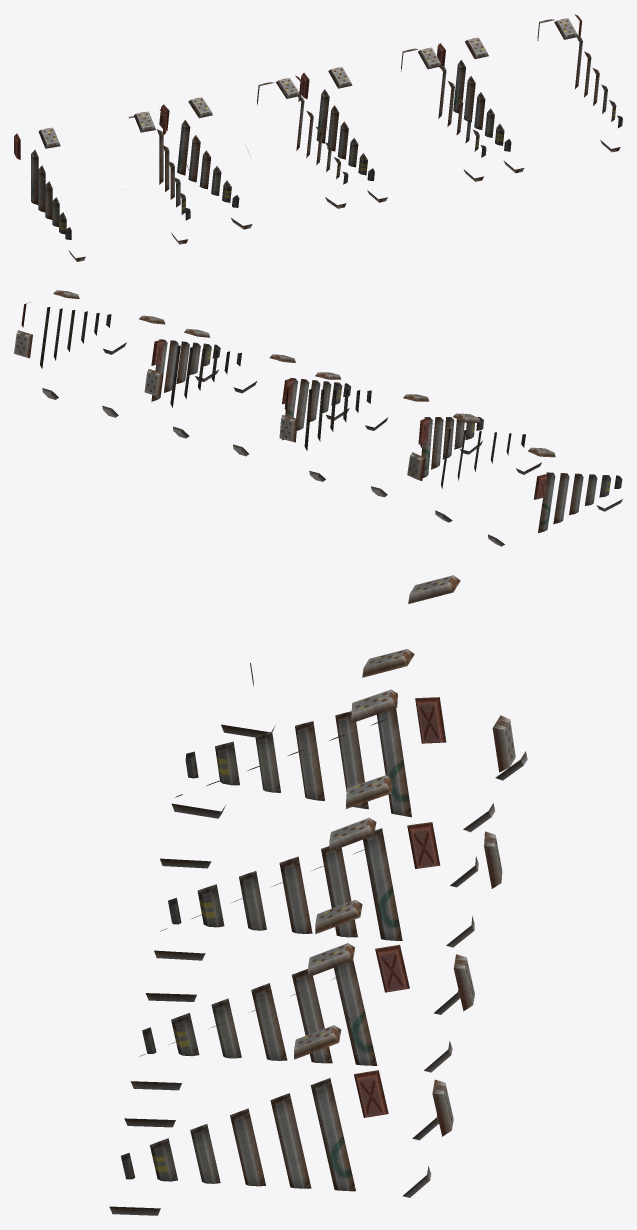
The model's file is prop_static_tan_container_01_11_0.glb.
3 views of the same model, one above another, from view 1: azimuth 30°, elevation 25°; view 2: azimuth 150°, elevation 25°; view 3: azimuth 270°, elevation 25° (orthographic). The views are drawn at different scales.
Parts seen in each view (by area): view 1: tan_container_01_11_LOD0; view 2: tan_container_01_11_LOD0; view 3: tan_container_01_11_LOD0.
Part boxes in pixels (bbox=[...]): tan_container_01_11_LOD0: bbox=[14, 14, 622, 261]; tan_container_01_11_LOD0: bbox=[14, 290, 622, 546]; tan_container_01_11_LOD0: bbox=[109, 575, 527, 1215].
Size of what is drawn, in the model's own units: 8.57 by 1.51 by 2.85.
Materials: 1 (1 with a texture image).
